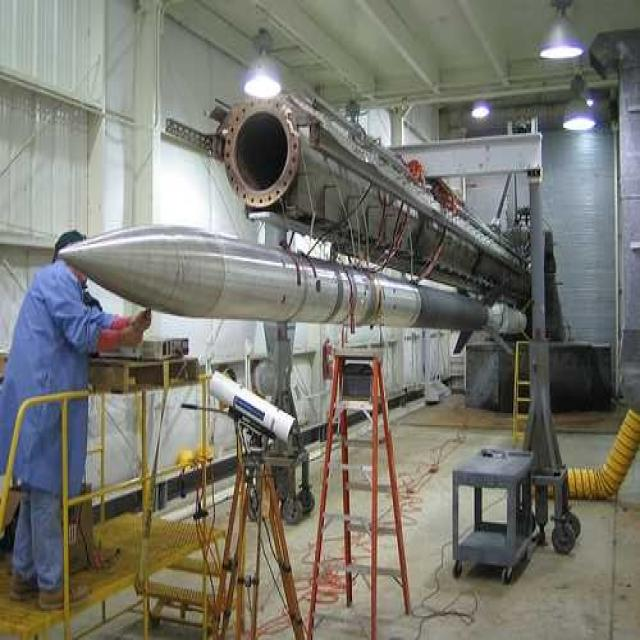missile: (53, 224, 575, 356)
